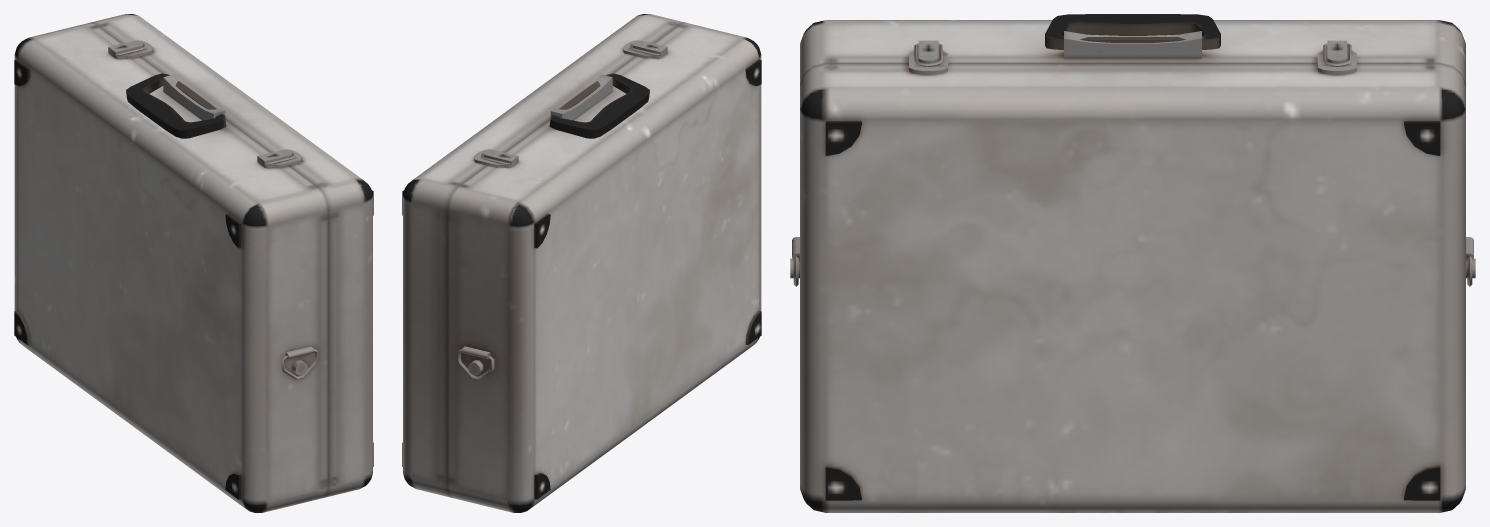
Rendered from SM_CaseBag.fbx.
3 renders of one model, left to right at view 1: azimuth 30°, elevation 25°; view 2: azimuth 150°, elevation 25°; view 3: azimuth 270°, elevation 25°, orthographic. The views are drawn at different scales.
Parts seen in each view (by area): view 1: SM_CaseBag_LOD0; view 2: SM_CaseBag_LOD0; view 3: SM_CaseBag_LOD0.
Part boxes in pixels (box(x1,y1,x2,y2)): SM_CaseBag_LOD0: box(14, 14, 373, 512); SM_CaseBag_LOD0: box(402, 14, 761, 512); SM_CaseBag_LOD0: box(790, 14, 1475, 512).
Bounding box in the file's own units: 14.17 × 45.46 × 32.48.
